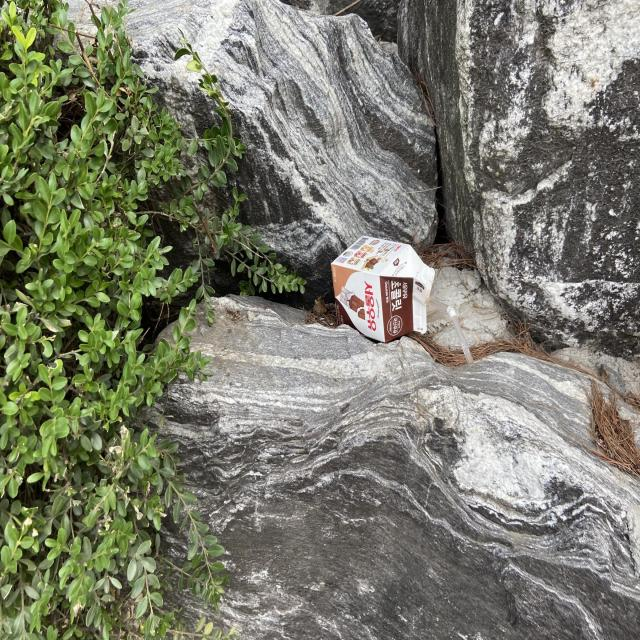paperpack: (331, 235, 435, 342)
